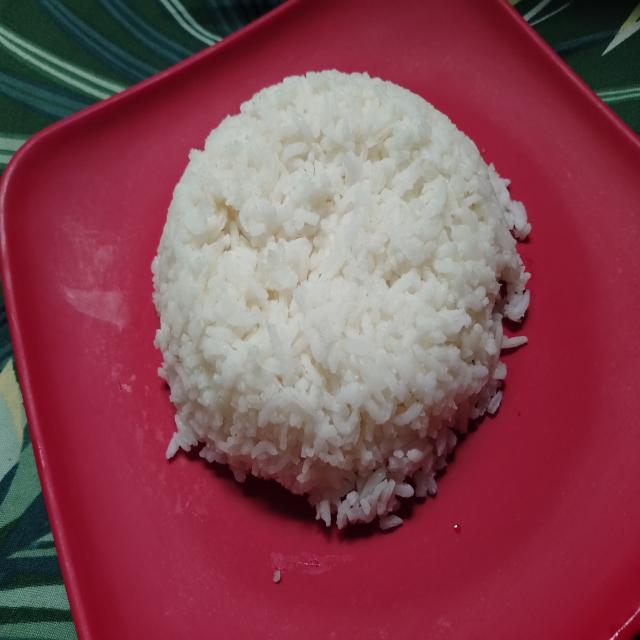Chicken -Chicken Inasal-: (152, 70, 521, 508)
